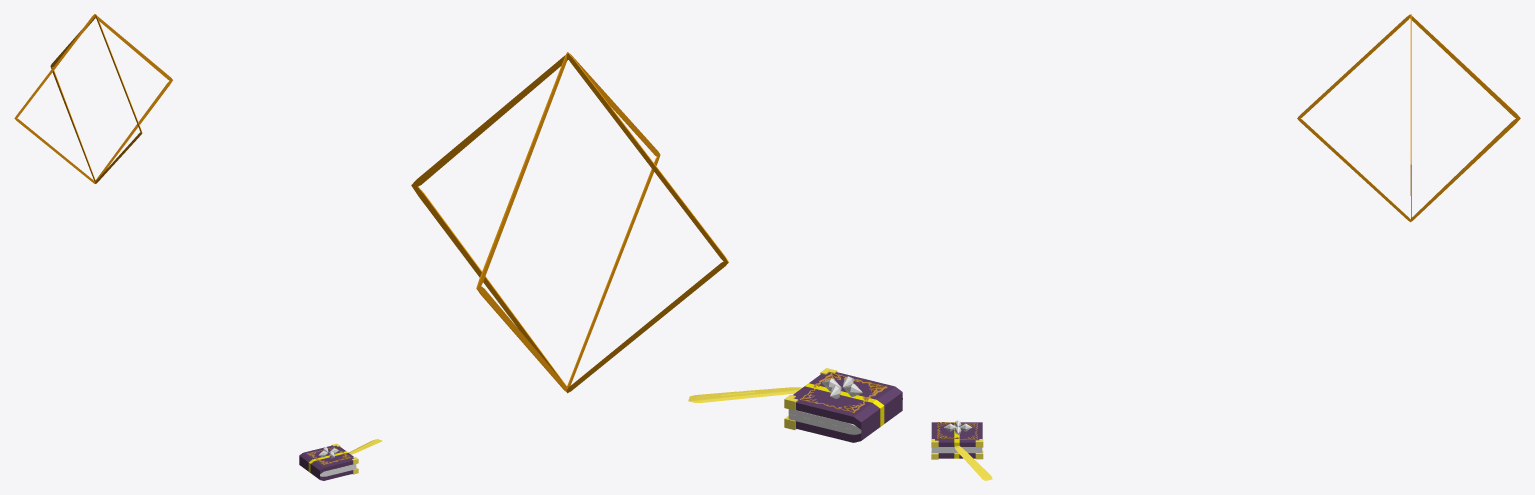
File: Book.fbx
The picture shows the model from 3 angles, left to right: view 1: azimuth 30°, elevation 25°; view 2: azimuth 150°, elevation 25°; view 3: azimuth 270°, elevation 25°; orthographic projection. The views are drawn at different scales.
Visible parts, largest first — view 1: 평면.004, 평면.006, Cube.003; view 2: 평면.004, 평면.006, Cube.003, Cube.001, Cube.005; view 3: 평면.006, Cube.003.
Boxes of the visible parts, <box> form: 평면.004: <box>14,14,172,183</box>; 평면.006: <box>50,14,142,183</box>; Cube.003: <box>299,445,353,474</box>; 평면.004: <box>411,53,728,393</box>; 평면.006: <box>476,52,660,391</box>; Cube.003: <box>793,372,902,429</box>; Cube.001: <box>688,387,801,402</box>; Cube.005: <box>795,403,902,442</box>; 평면.006: <box>1297,14,1520,222</box>; Cube.003: <box>931,422,982,446</box>.
Size of the model in its own units: 1077 by 1762 by 2323.
